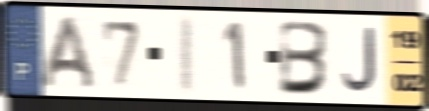1: (220, 19, 247, 94)
7: (99, 18, 144, 89)
A: (37, 12, 99, 91)
B: (277, 18, 333, 97)
I: (177, 13, 197, 97)
J: (339, 25, 380, 95)
